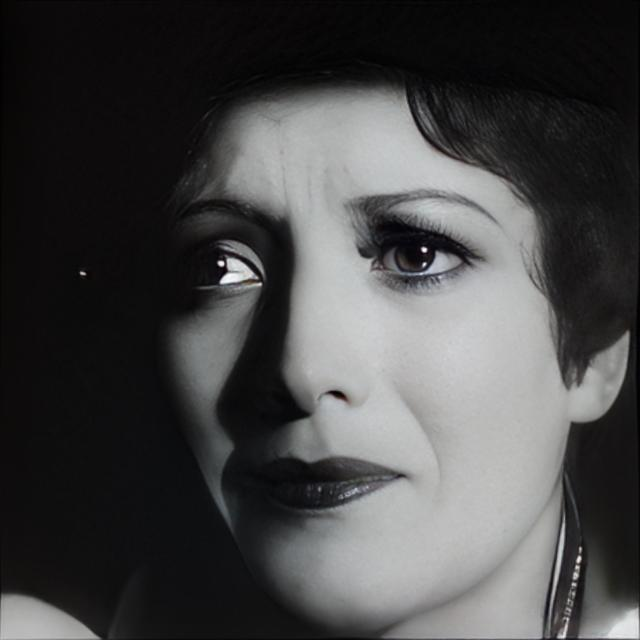sad: (142, 77, 572, 640)
